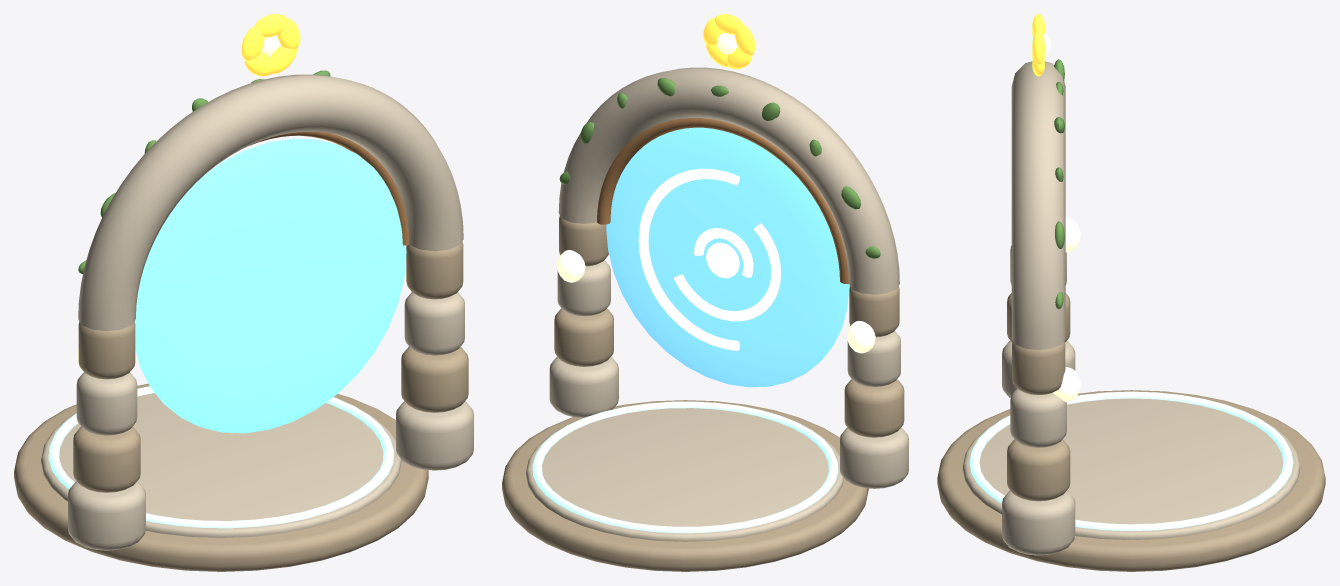
File: portal_arch.glb
The picture shows the model from 3 angles, left to right: view 1: azimuth 30°, elevation 25°; view 2: azimuth 150°, elevation 25°; view 3: azimuth 270°, elevation 25°; orthographic projection. The views are drawn at different scales.
Visible parts, largest first — view 1: PortalArch, Swirl, ClearedMark; view 2: PortalArch, Swirl, ClearedMark; view 3: PortalArch, ClearedMark.
Boxes of the visible parts, <box> form: PortalArch: <box>14,70,473,571</box>; Swirl: <box>134,138,406,433</box>; ClearedMark: <box>241,14,300,76</box>; PortalArch: <box>502,67,908,571</box>; Swirl: <box>606,127,849,387</box>; ClearedMark: <box>703,14,755,69</box>; PortalArch: <box>937,59,1325,571</box>; ClearedMark: <box>1032,14,1050,76</box>.
Size of the model in its own units: 2.54 by 3.12 by 2.3.
